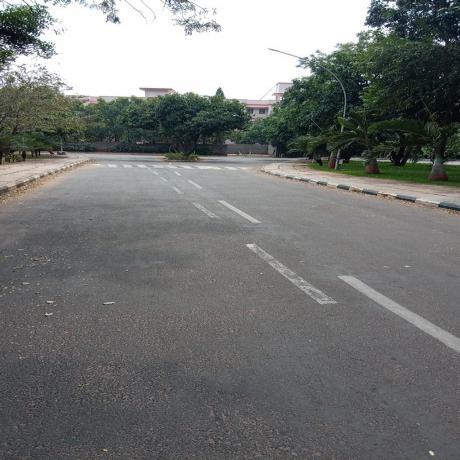Speed Bump: (80, 164, 267, 170)
